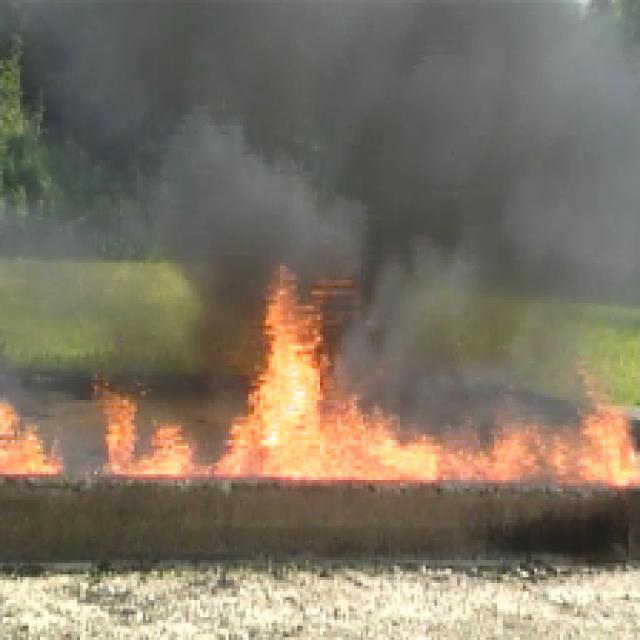Fire: (338, 416, 634, 479), (255, 314, 328, 478), (111, 404, 190, 472)
Smoke: (109, 11, 634, 298)
